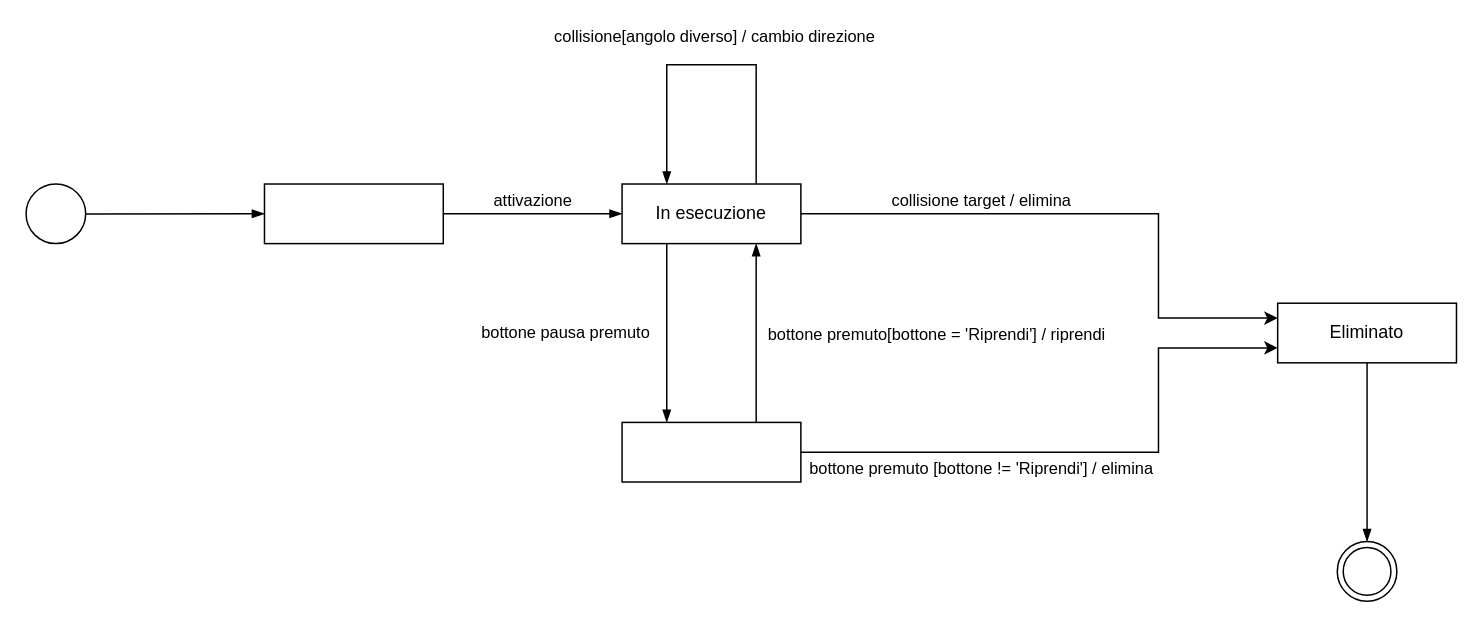
This 1483x627 diagram has some shape labels left out. The shapes that lost their labels are listed below. From the top down, each one's centre as x and y in pixels, then its label:
At (353,213): "In creazione".
At (711,451): "In pausa".
